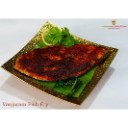seerfish: (16, 44, 108, 82)
